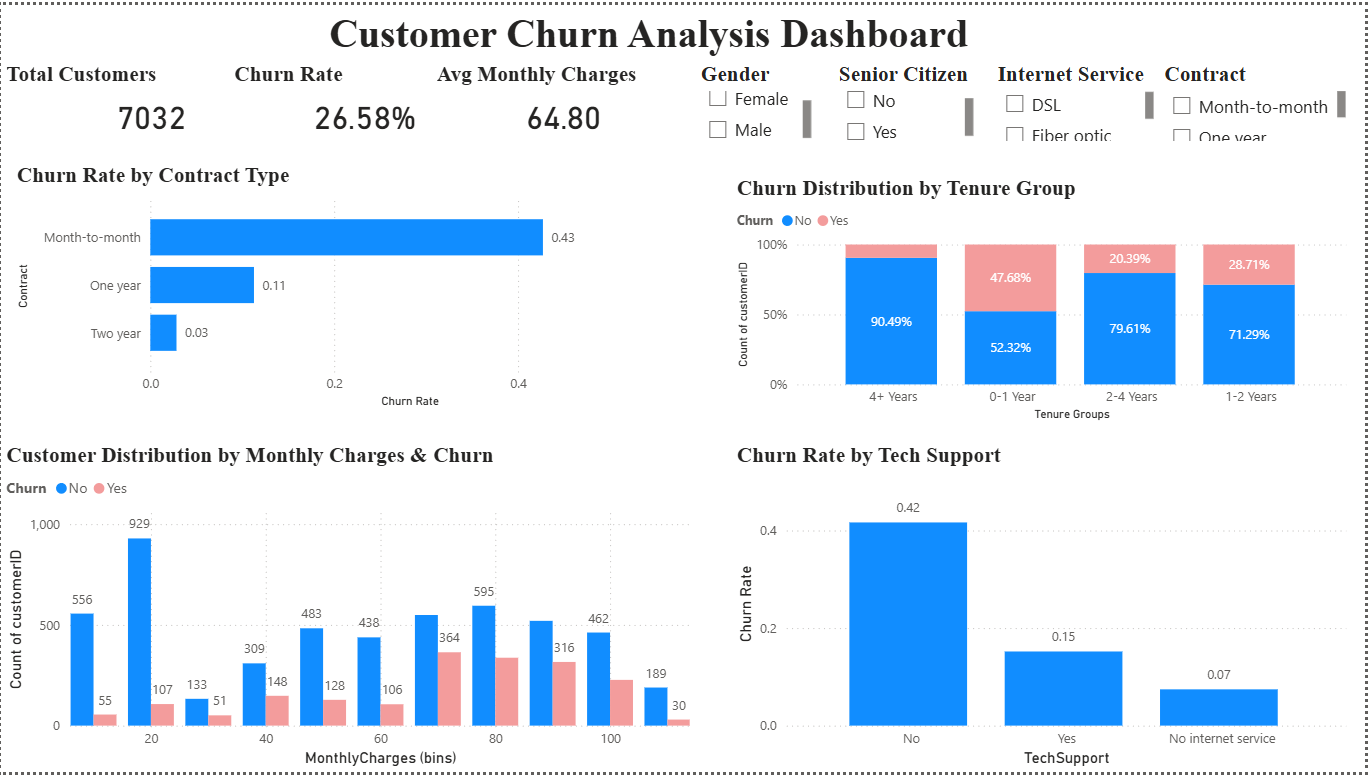

Layout of this report page (visuals, bound fields, positions):
{"tool":"powerbi","page":{"name":"Page 1","canvas":[1280,720],"ordinal":0},"visuals":[{"type":"card","title":"Total Customers","fields":{"Values":["WA_Fn-UseC_-Telco-Customer-Churn.Total Customers"]},"box":[0,52.9,281.6,77.5],"z":0},{"type":"card","title":"Churn Rate","fields":{"Values":["WA_Fn-UseC_-Telco-Customer-Churn.Churn Rate"]},"box":[213.5,52.9,255.1,77.5],"z":1},{"type":"card","title":"Avg Monthly Charges","fields":{"Values":["WA_Fn-UseC_-Telco-Customer-Churn.Avg Monthly Charges"]},"box":[404.4,52.9,247.6,77.5],"z":2},{"type":"clusteredBarChart","title":"Churn Rate by Contract Type","fields":{"Category":["WA_Fn-UseC_-Telco-Customer-Churn.Contract"],"Y":["WA_Fn-UseC_-Telco-Customer-Churn.Churn Rate"]},"box":[9.4,147.4,631.2,234.3],"z":3},{"type":"hundredPercentStackedColumnChart","title":"Churn Distribution by Tenure Group","fields":{"Y":["CountNonNull(WA_Fn-UseC_-Telco-Customer-Churn.customerID)"],"Series":["WA_Fn-UseC_-Telco-Customer-Churn.Churn"],"Category":["WA_Fn-UseC_-Telco-Customer-Churn.Tenure Groups"]},"box":[686,160.6,582.1,234.3],"z":4},{"type":"clusteredColumnChart","title":"Customer Distribution by Monthly Charges & Churn","fields":{"Category":["WA_Fn-UseC_-Telco-Customer-Churn.MonthlyCharges (bins)"],"Y":["CountNonNull(WA_Fn-UseC_-Telco-Customer-Churn.customerID)"],"Series":["WA_Fn-UseC_-Telco-Customer-Churn.Churn"]},"box":[0,412,652,308],"z":5},{"type":"clusteredColumnChart","title":"Churn Rate by Tech Support","fields":{"Category":["WA_Fn-UseC_-Telco-Customer-Churn.TechSupport"],"Y":["WA_Fn-UseC_-Telco-Customer-Churn.Churn Rate"]},"box":[686,412,582.1,308],"z":6},{"type":"slicer","title":"Gender","fields":{"Values":["WA_Fn-UseC_-Telco-Customer-Churn.gender"]},"box":[652,52.9,113.4,79.4],"z":7},{"type":"slicer","title":"Senior Citizen","fields":{"Values":["WA_Fn-UseC_-Telco-Customer-Churn.Senior Citizen Label"]},"box":[782.4,52.9,136.1,79.4],"z":8},{"type":"slicer","title":"Internet Service","fields":{"Values":["WA_Fn-UseC_-Telco-Customer-Churn.InternetService"]},"box":[931,53.5,156.3,78.9],"z":9},{"type":"slicer","title":"Contract","fields":{"Values":["WA_Fn-UseC_-Telco-Customer-Churn.Contract"]},"box":[1087.3,53.5,180.3,78.9],"z":10},{"type":"textbox","box":[213.5,0,788,52.9],"z":11}]}

Visuals, with their boxes in screenshot pixels (x1, y1, x2, y2), scaled from the page's 1280x720 canvas onto the 1369x778 screenshot:
"Total Customers" card: bbox=[0, 57, 301, 141]
"Churn Rate" card: bbox=[228, 57, 501, 141]
"Avg Monthly Charges" card: bbox=[433, 57, 697, 141]
"Churn Rate by Contract Type" clusteredBarChart: bbox=[10, 159, 685, 412]
"Churn Distribution by Tenure Group" hundredPercentStackedColumnChart: bbox=[734, 174, 1356, 427]
"Customer Distribution by Monthly Charges & Churn" clusteredColumnChart: bbox=[0, 445, 697, 777]
"Churn Rate by Tech Support" clusteredColumnChart: bbox=[734, 445, 1356, 777]
"Gender" slicer: bbox=[697, 57, 819, 143]
"Senior Citizen" slicer: bbox=[837, 57, 982, 143]
"Internet Service" slicer: bbox=[996, 58, 1163, 143]
"Contract" slicer: bbox=[1163, 58, 1356, 143]
textbox: bbox=[228, 0, 1071, 57]
